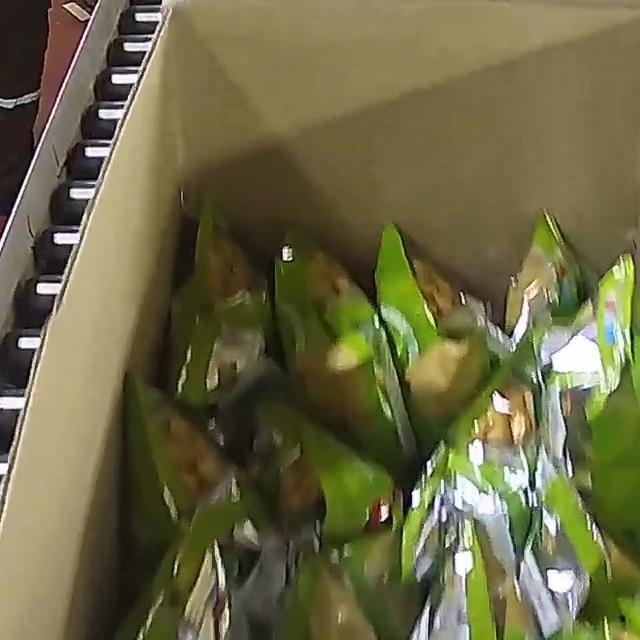yogurt: (68, 194, 640, 640)
